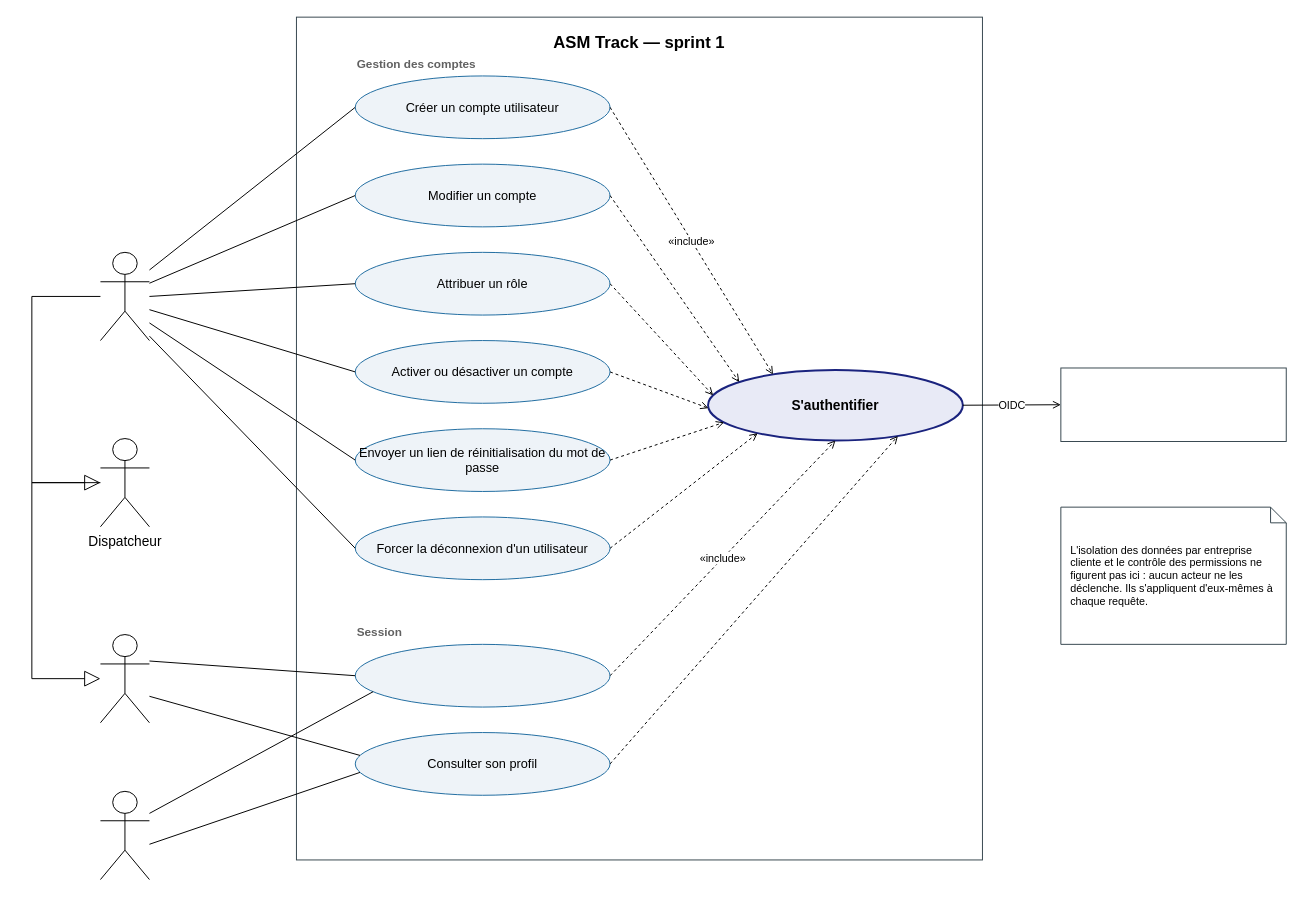
This 1303x920 diagram has some shape labels left out. The shapes that lost their labels are listed below. From the top down, each one's centre as x and y in pixels, then its label:
At pixel 124 296: "Administrateur".
At pixel 1173 404: "« système externe » Serveur d'identité".
At pixel 124 678: "Responsable".
At pixel 482 675: "Se déconnecter".
At pixel 124 835: "Livreur".
